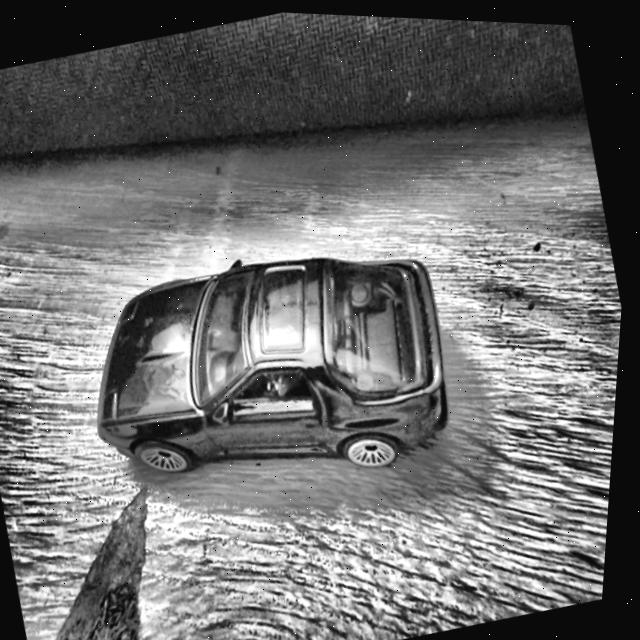car: (65, 205, 480, 532)
